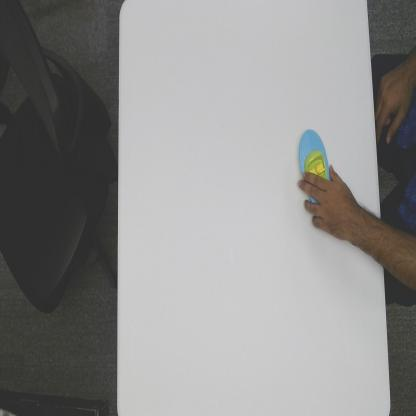Arm: (355, 200, 384, 263)
Boat: (298, 126, 331, 205)
Hand: (298, 163, 354, 242)
